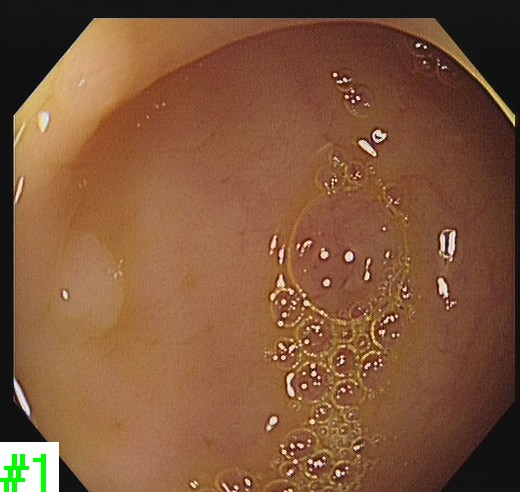others: (56, 230, 125, 339)
